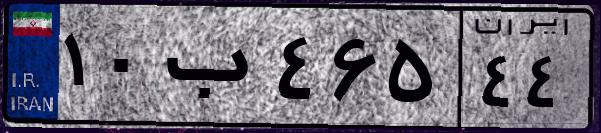0: (110, 28, 158, 98)
1: (57, 26, 110, 100)
4: (270, 28, 330, 110), (475, 38, 525, 113), (525, 38, 570, 115)
5: (385, 28, 445, 110)
6: (330, 28, 385, 110)
ب: (158, 20, 270, 120)
